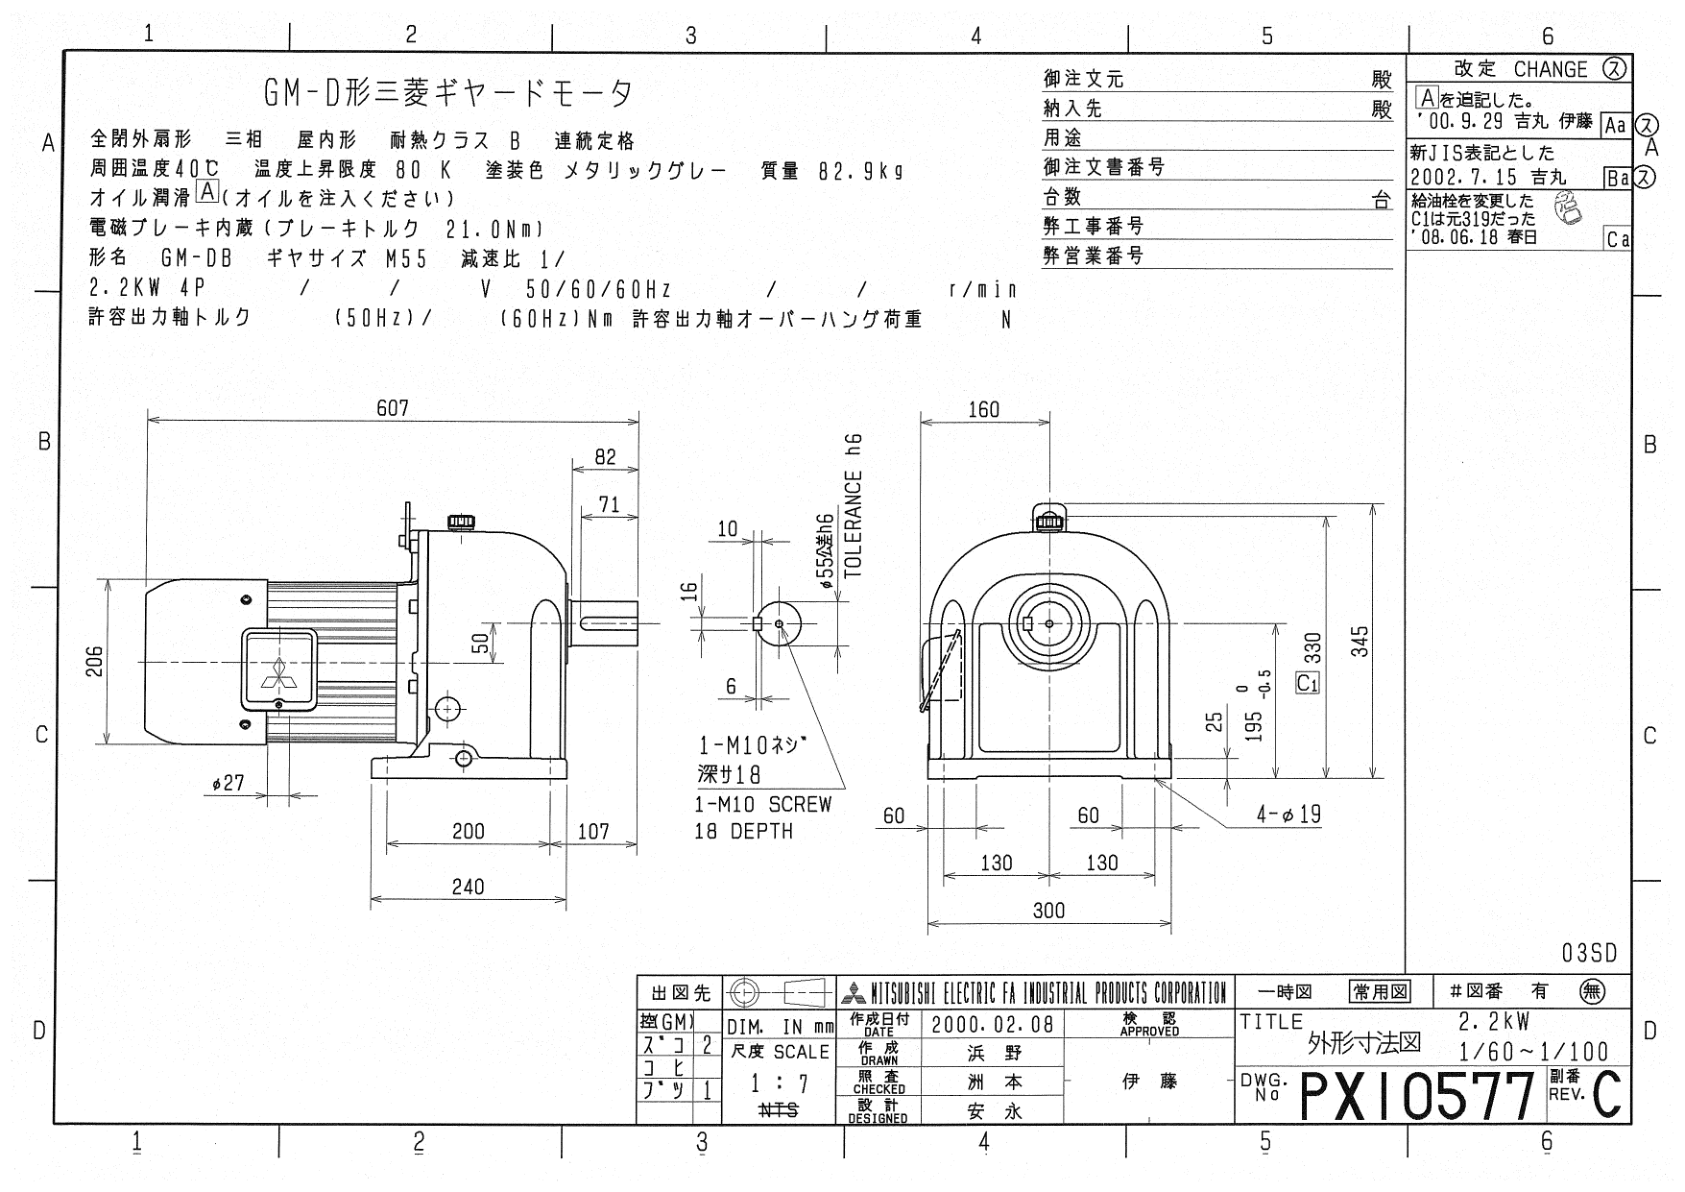GM_D_屋内＿三相_脚: (70, 353, 1388, 949)
